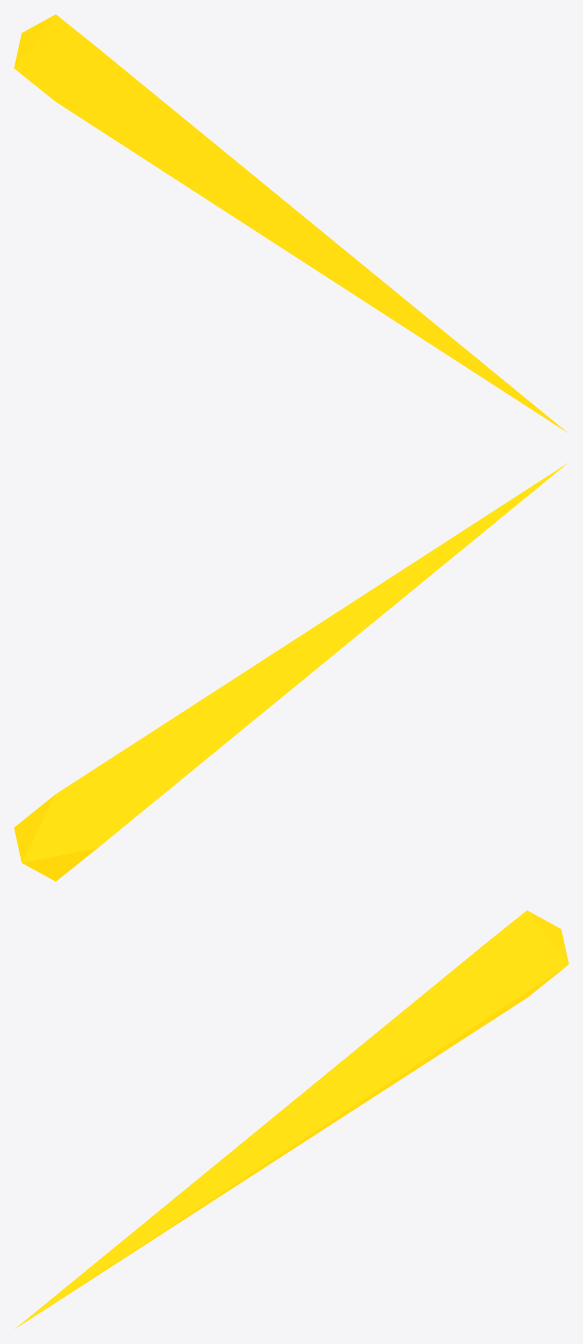
Rendered from RicochetBullet.fbx.
The picture shows the model from 3 angles, top to bottom: view 1: azimuth 30°, elevation 25°; view 2: azimuth 150°, elevation 25°; view 3: azimuth 330°, elevation 25°; orthographic projection.
Parts seen in each view (by area): view 1: RicochetBullet; view 2: RicochetBullet; view 3: RicochetBullet.
Boxes of the visible parts, x1,y1,x2,y2 form: RicochetBullet: [14, 14, 567, 432]; RicochetBullet: [14, 463, 567, 881]; RicochetBullet: [15, 910, 568, 1328].
Size of the model in its own units: 9.33 by 9.33 by 106.
